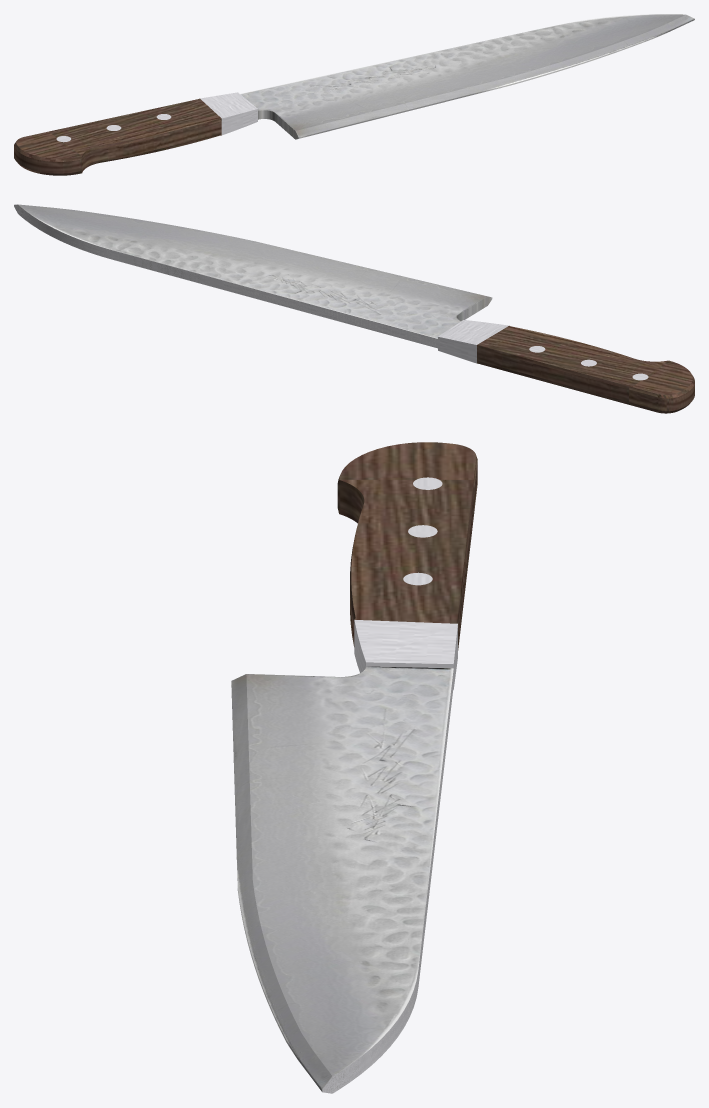
File: knife.dae
3 renders of one model, top to bottom at view 1: azimuth 30°, elevation 25°; view 2: azimuth 150°, elevation 25°; view 3: azimuth 270°, elevation 25°, orthographic. The views are drawn at different scales.
Visible parts, largest first — view 1: SketchUp (×3); view 2: SketchUp (×4); view 3: SketchUp (×4).
Part boxes in pixels (box(x1,y1,x2,y2)): SketchUp (×3): box(14, 14, 694, 175); SketchUp (×4): box(14, 204, 694, 413); SketchUp (×4): box(231, 442, 477, 1093).
Bounding box in the file's own units: 15.63 × 2.57 × 0.3935.
4 materials, 3 textured.
